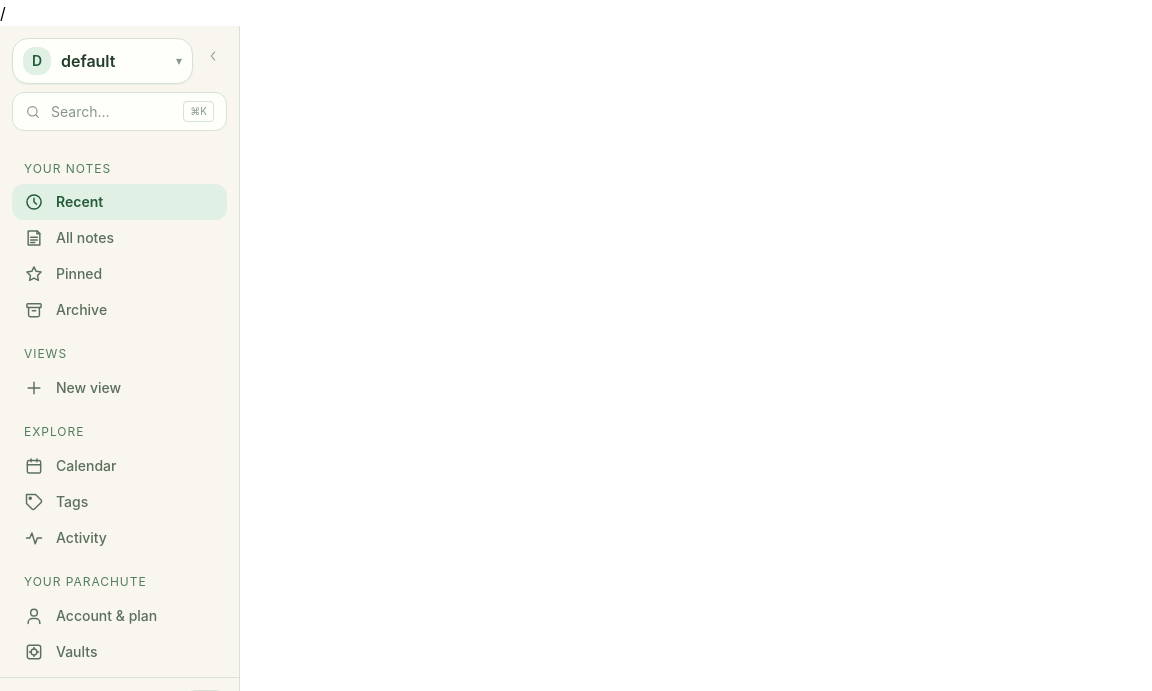
Test: QuickSwitchMount › opens from the desktop rail's Search row
The image size is (1152, 691).
Click the button "Search… ⌘K".
click(120, 112)  # box [12,92,227,131]
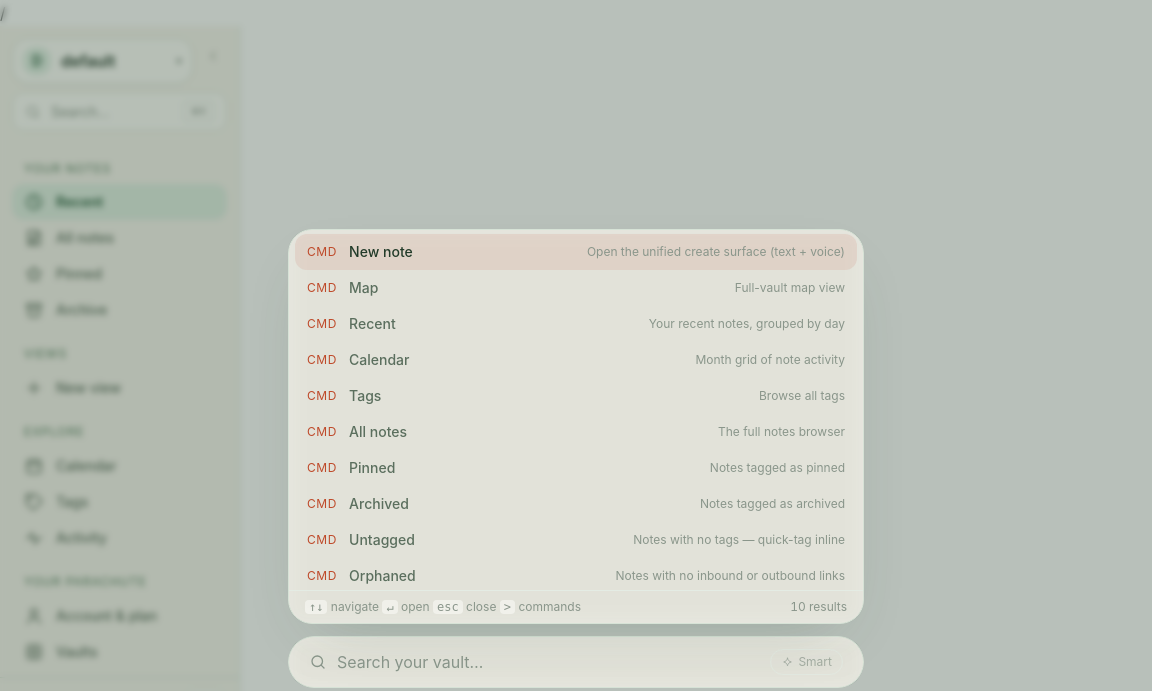
Result: the field named "quick switch query" is shown at [337,650,760,674]
